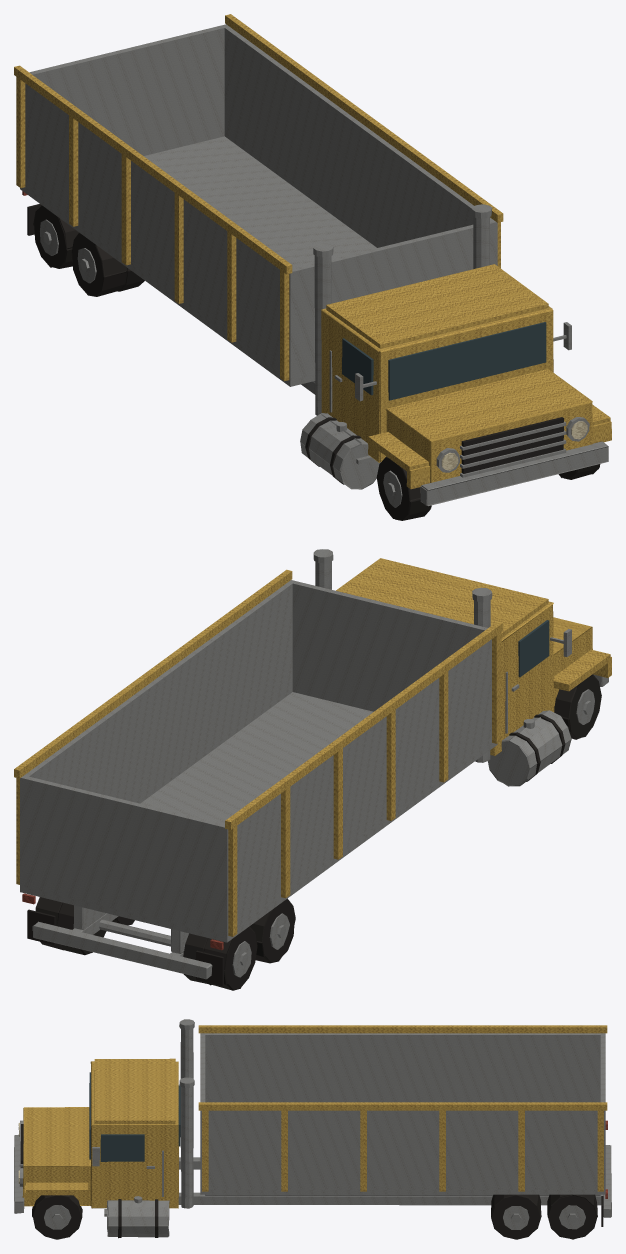
Rendered from heavy_hauler.glb.
3 views of the same model, one above another, from view 1: azimuth 30°, elevation 25°; view 2: azimuth 150°, elevation 25°; view 3: azimuth 270°, elevation 25° (orthographic). The views are drawn at different scales.
Visible parts, largest first — view 1: HeavyHauler; view 2: HeavyHauler; view 3: HeavyHauler.
Part boxes in pixels (x1,y1,x2,y2): HeavyHauler: [14, 14, 611, 520]; HeavyHauler: [14, 549, 611, 990]; HeavyHauler: [14, 1019, 611, 1239].
Bounding box in the file's own units: 3.41 × 2.87 × 10.08.
6 materials, 4 textured.
